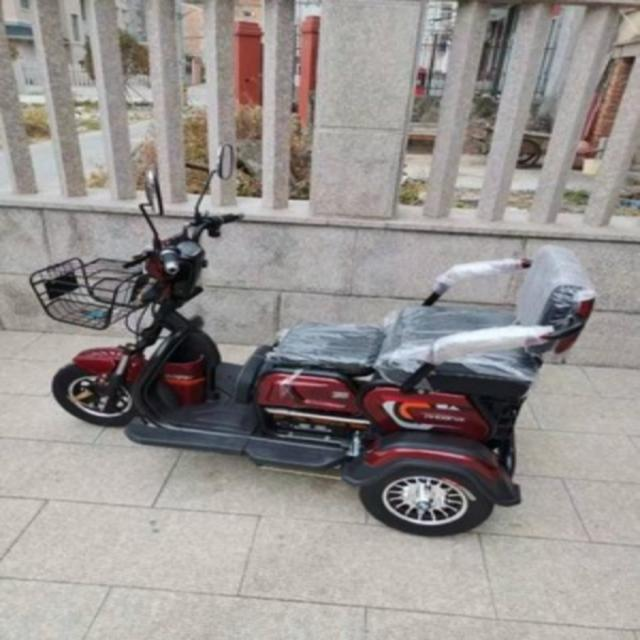tricycle: (24, 142, 593, 538)
